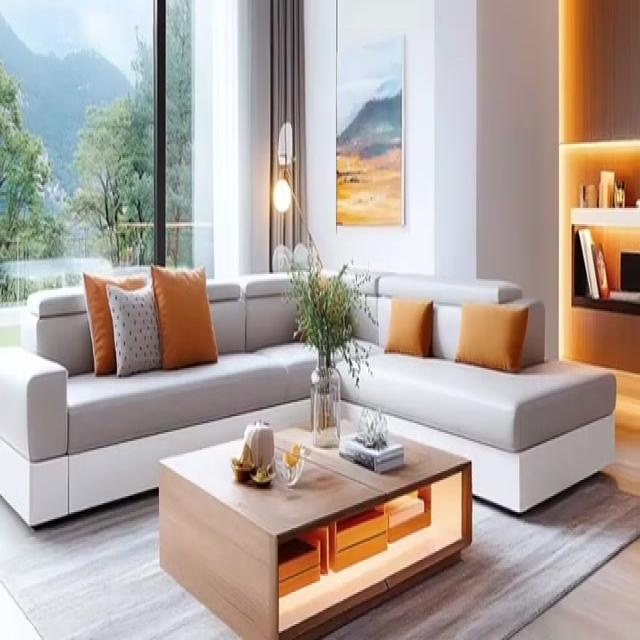obstacle: (0, 263, 616, 528), (158, 416, 472, 638)
